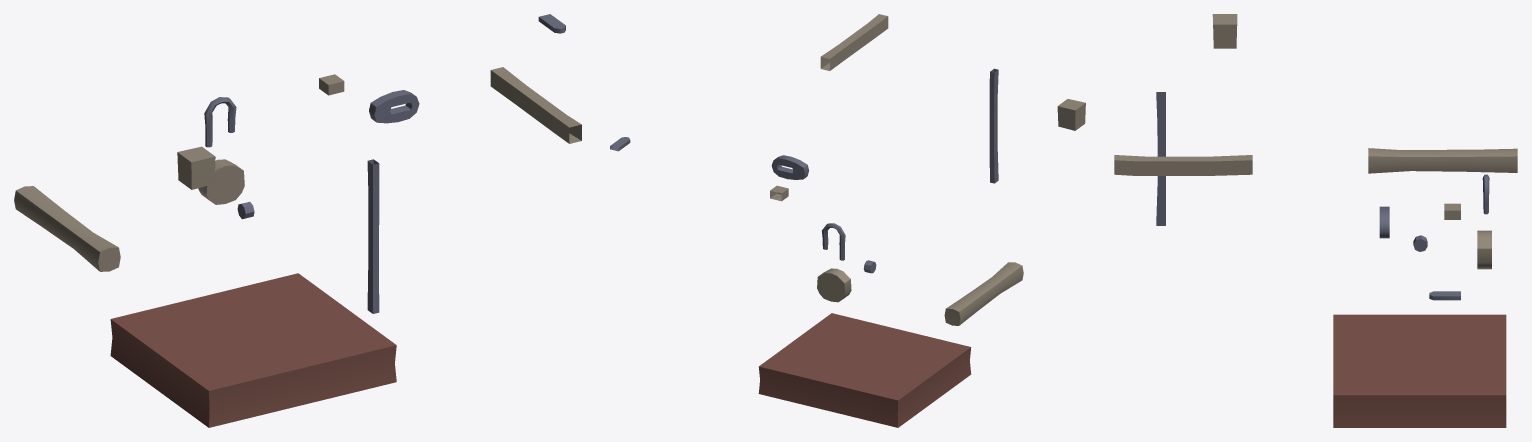
Rendered from FurnaceCages_texture.fbx.
3 renders of one model, left to right at view 1: azimuth 30°, elevation 25°; view 2: azimuth 150°, elevation 25°; view 3: azimuth 270°, elevation 25°, orthographic. The views are drawn at different scales.
Visible parts, largest first — view 1: Cage.002; view 2: Cage.002; view 3: Cage.002.
Part boxes in pixels (bbox=[...]): Cage.002: bbox=[14, 14, 581, 427]; Cage.002: bbox=[610, 14, 1085, 427]; Cage.002: bbox=[1114, 14, 1517, 427].
Bounding box in the file's own units: 1702 × 1085 × 1338.
